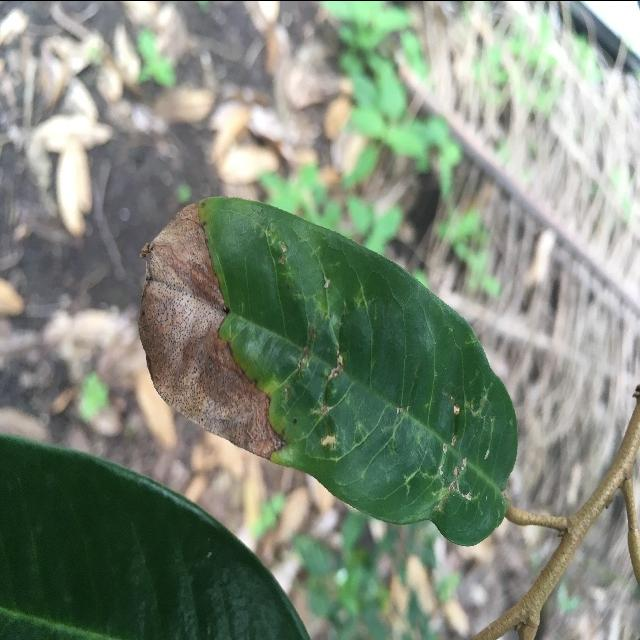Leaf Blight: (135, 188, 527, 551)
